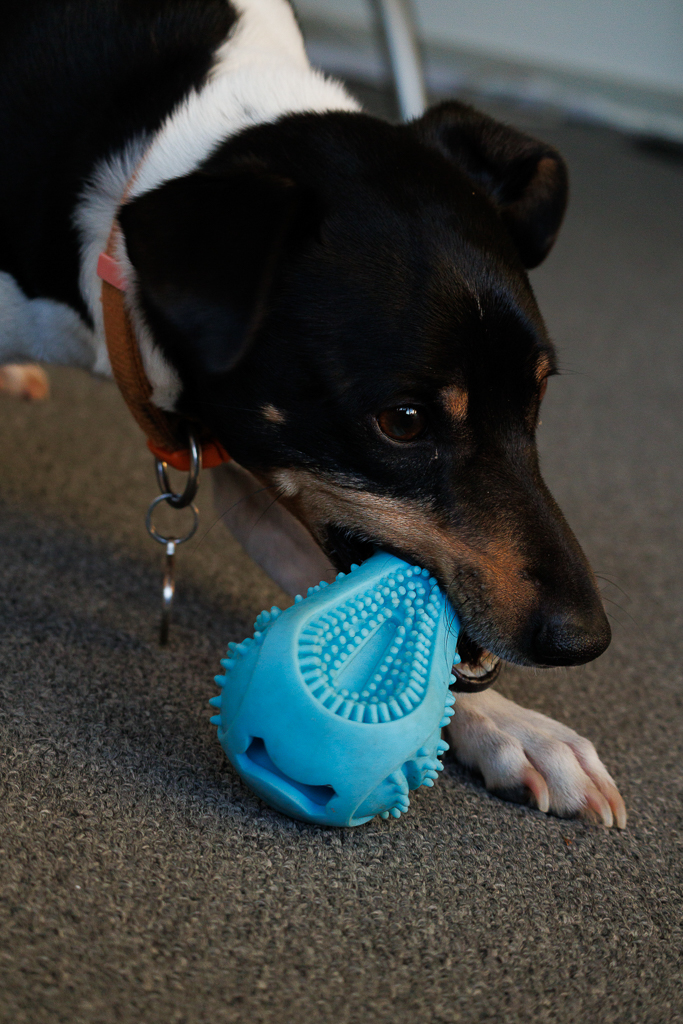Dog: (0, 0, 639, 840)
